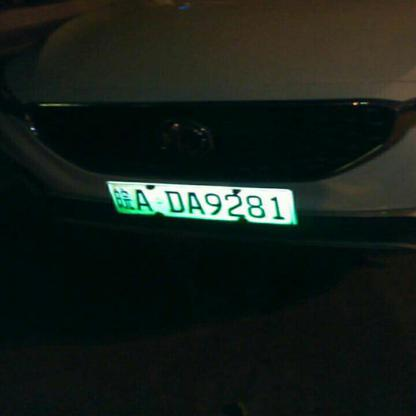lp: (105, 176, 298, 225)
